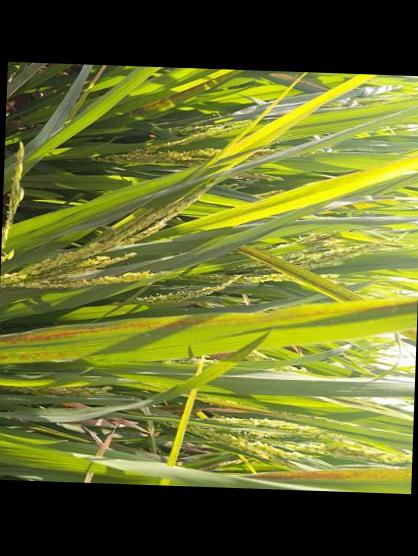Leaf Streak: (0, 296, 417, 344), (235, 245, 361, 301), (137, 70, 239, 114), (240, 466, 412, 481), (0, 350, 85, 361)
